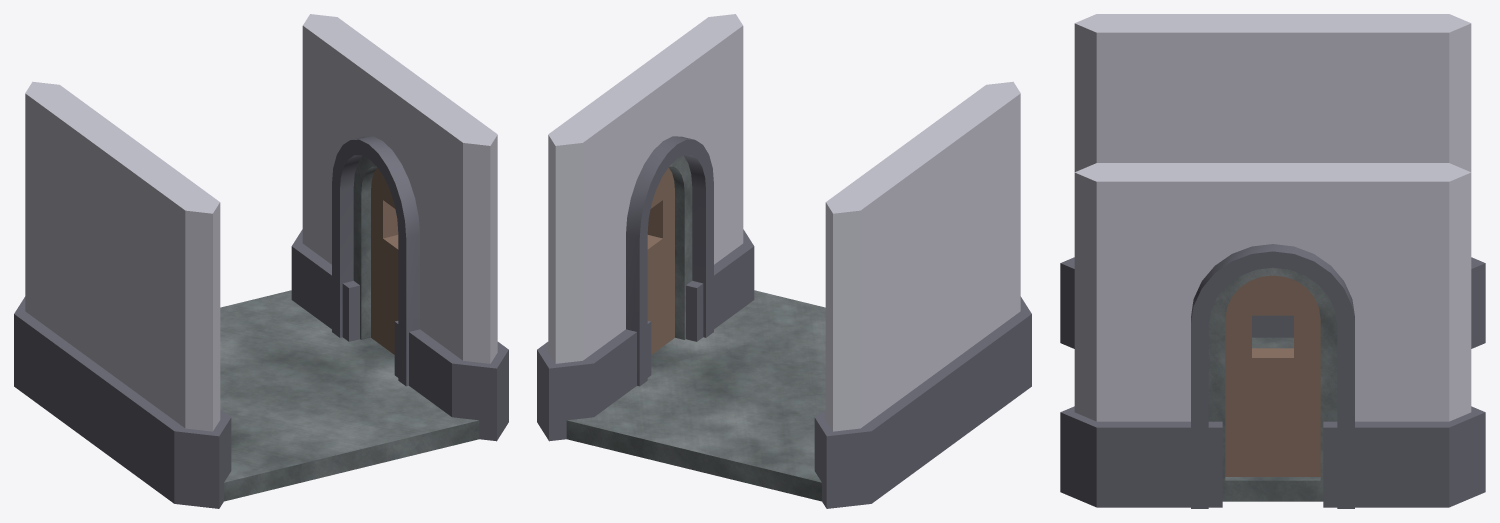
File: sm_hallway_04.fbx
3 views of the same model, side by side, from view 1: azimuth 30°, elevation 25°; view 2: azimuth 150°, elevation 25°; view 3: azimuth 270°, elevation 25° (orthographic). The views are drawn at different scales.
Visible parts, largest first — view 1: wall_01_172, door_01_174, floor_square_169; view 2: wall_01_172, door_01_174, floor_square_169; view 3: door_01_174, wall_01_172, floor_square_169.
Boxes of the visible parts, box(x1,y1,x2,y2) form: wall_01_172: box(14, 81, 231, 508); door_01_174: box(291, 14, 508, 441); floor_square_169: box(220, 290, 479, 501); wall_01_172: box(814, 81, 1031, 508); door_01_174: box(537, 14, 754, 441); floor_square_169: box(566, 290, 825, 501); door_01_174: box(1060, 163, 1485, 508); wall_01_172: box(1060, 14, 1485, 348); floor_square_169: box(1222, 337, 1323, 501).
Bounding box in the file's own units: 12.15 × 10 × 12.05.
